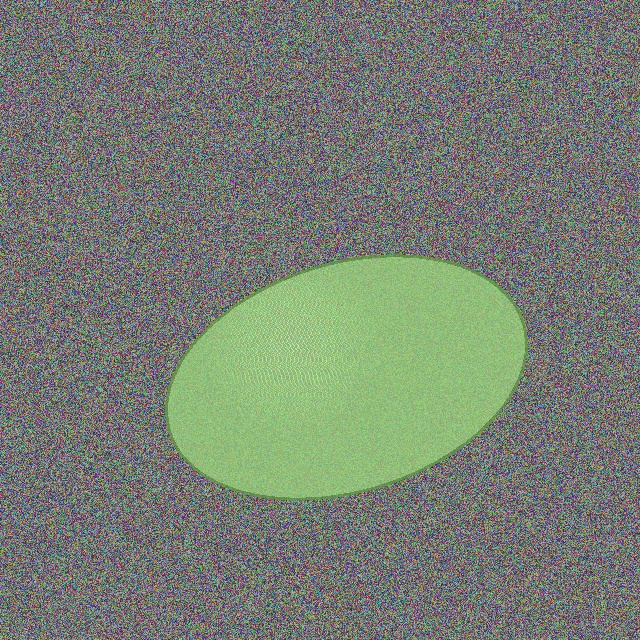lens: (166, 256, 526, 498)
